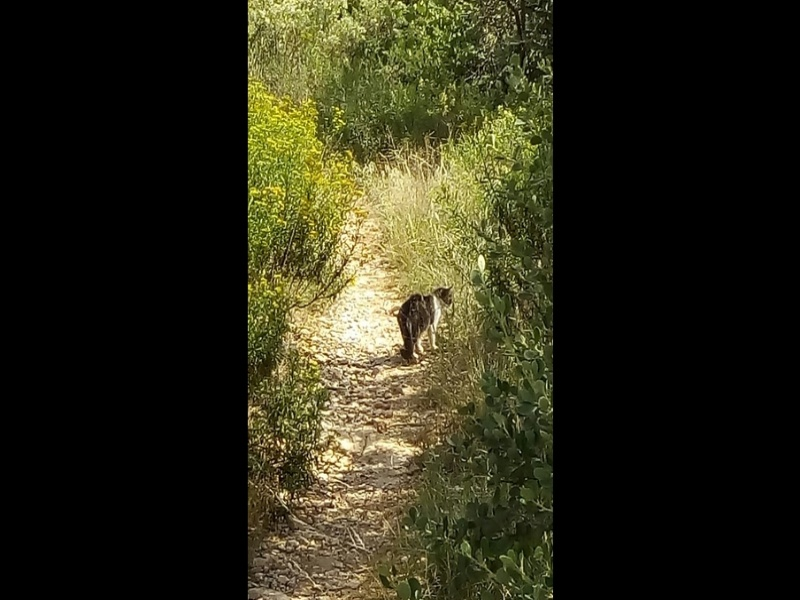cat: (398, 281, 454, 369)
